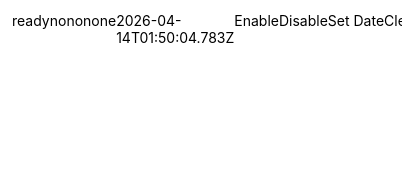
Test: TimeContext › TimeProvider › should return travel date from getCurrentDate when active
Expected: the text with test id "loading" reads "ready", [12,12,50,29]
Click the element with test id "setDateBtn" at point(356, 20), box [328,12,384,29]
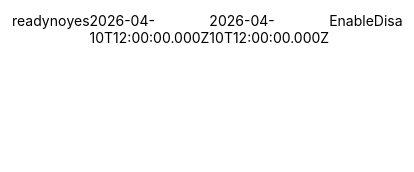
Expected: the text with test id "currentDate" shows "2026-04-10", [209,12,329,46]
